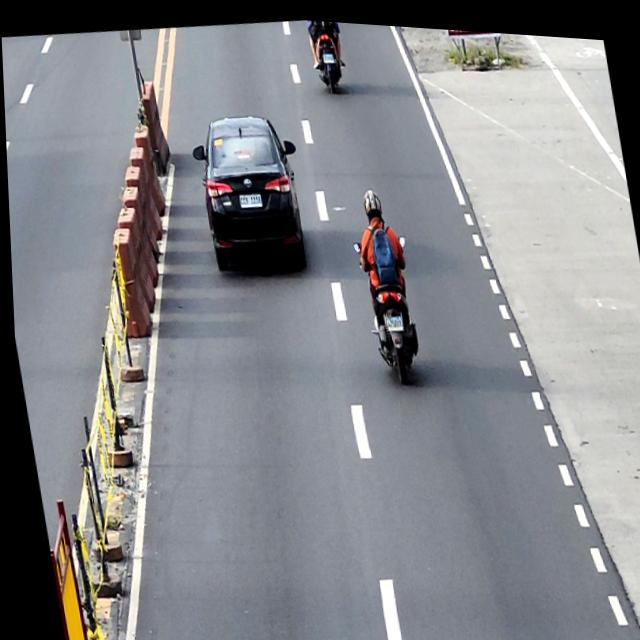Car: (185, 103, 314, 275)
License-Plate: (235, 186, 262, 207), (382, 310, 401, 327), (321, 47, 334, 60)
Motorcycle: (349, 225, 425, 384), (307, 16, 347, 90)
